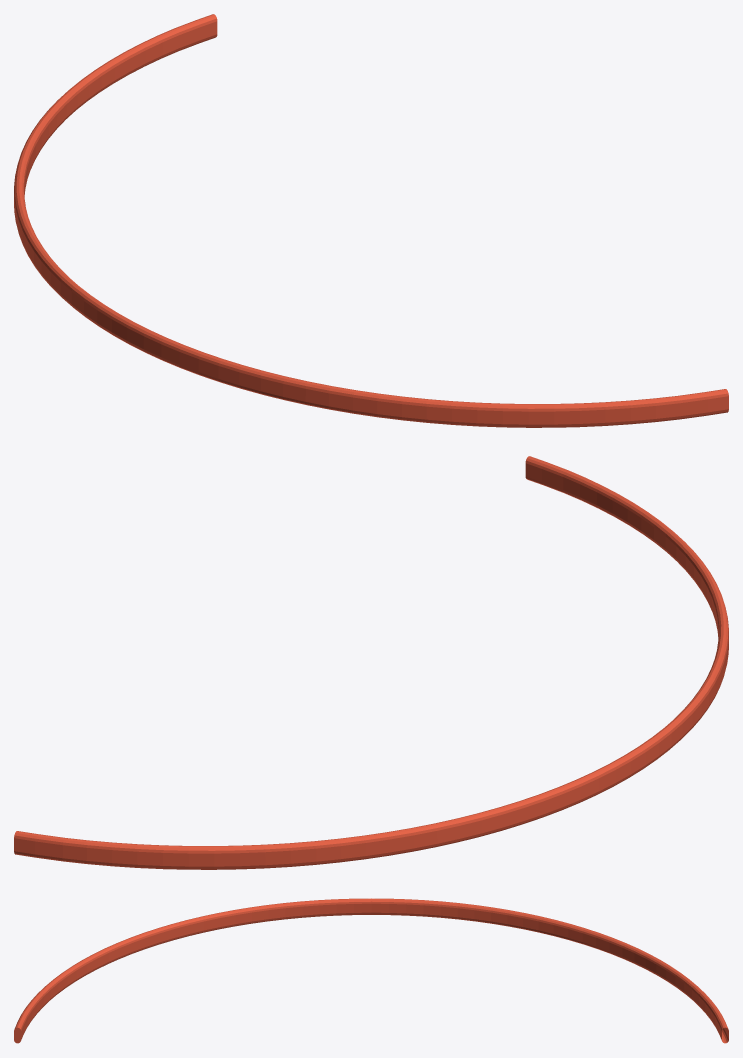
Rendered from border_left.fbx.
3 renders of one model, top to bottom at view 1: azimuth 30°, elevation 25°; view 2: azimuth 150°, elevation 25°; view 3: azimuth 270°, elevation 25°, orthographic. The views are drawn at different scales.
Parts seen in each view (by area): view 1: border_left; view 2: border_left; view 3: border_left.
Part boxes in pixels (left/top/right/bottom): border_left: left=14, top=14, right=728, bottom=427; border_left: left=14, top=456, right=728, bottom=869; border_left: left=14, top=898, right=728, bottom=1043.
Bounding box in the file's own units: 294 × 16.64 × 680.
